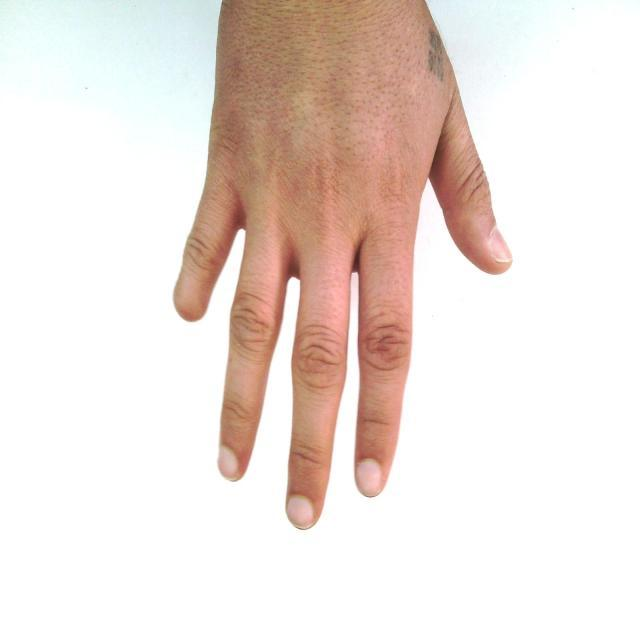Fingernail: (357, 460, 382, 497), (287, 496, 314, 529), (490, 229, 512, 262), (219, 447, 239, 481)
